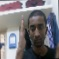hand: (17, 14, 26, 51)
